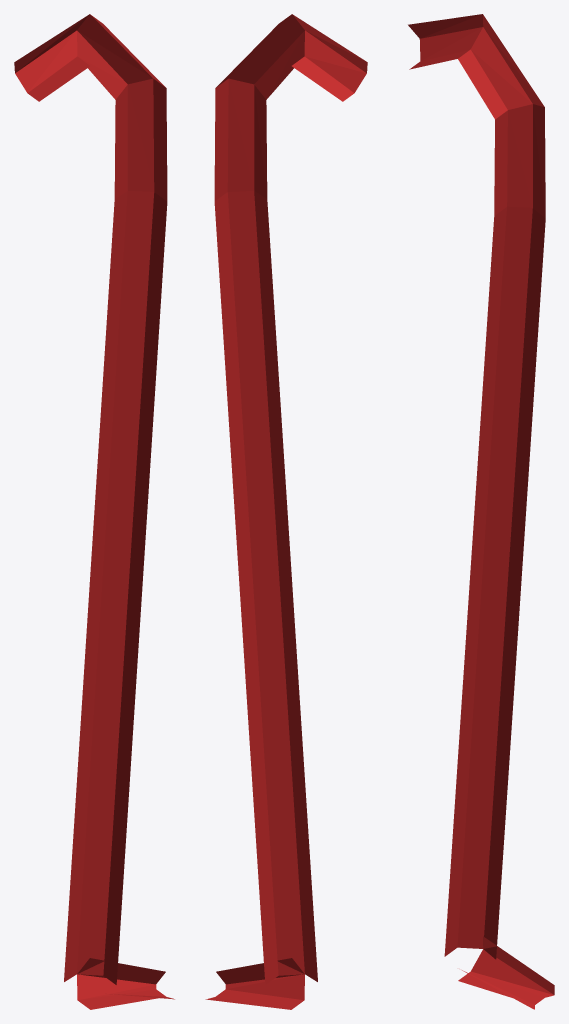
Rendered from kofot.glb.
3 renders of one model, left to right at view 1: azimuth 30°, elevation 25°; view 2: azimuth 150°, elevation 25°; view 3: azimuth 330°, elevation 25°, orthographic. The views are drawn at different scales.
Visible parts, largest first — view 1: kofot; view 2: kofot; view 3: kofot.
Part boxes in pixels (x1,y1,x2,y2): kofot: [14, 14, 174, 1009]; kofot: [205, 14, 367, 1009]; kofot: [408, 14, 554, 1009].
Bounding box in the file's own units: 0.119 × 0.7448 × 0.036.
